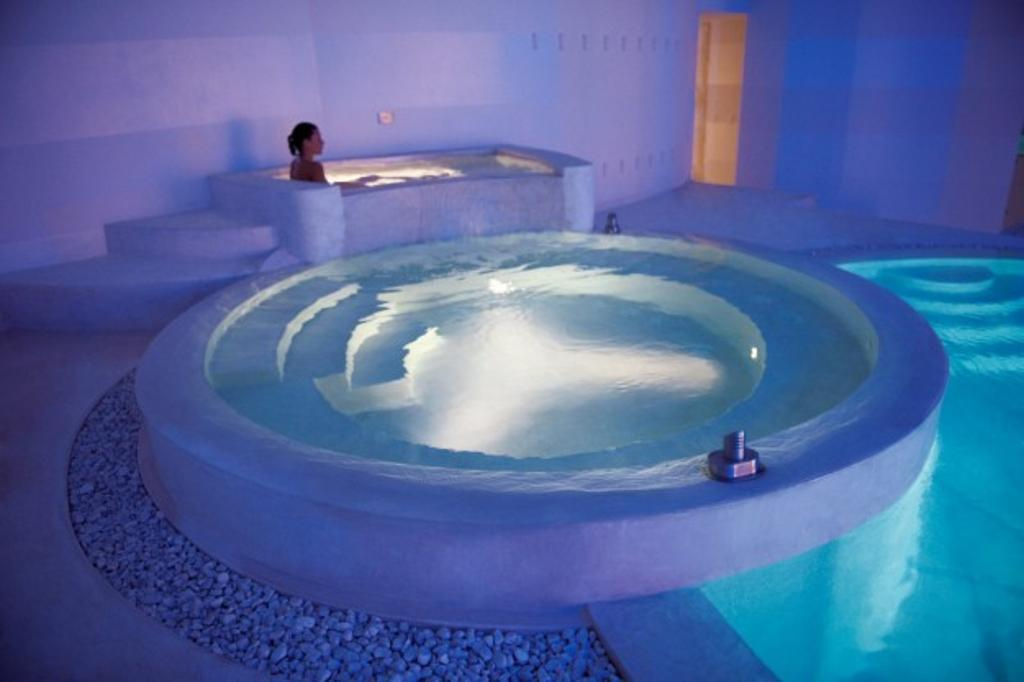face: (306, 131, 321, 155)
